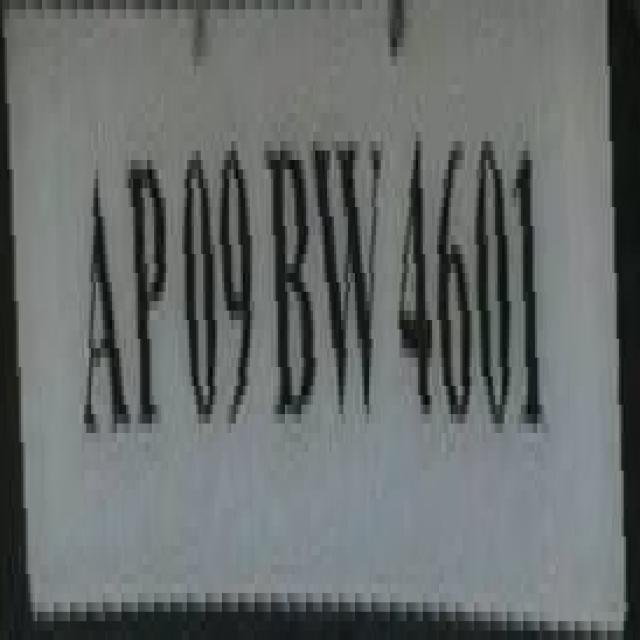license_plate: (21, 10, 640, 602)
